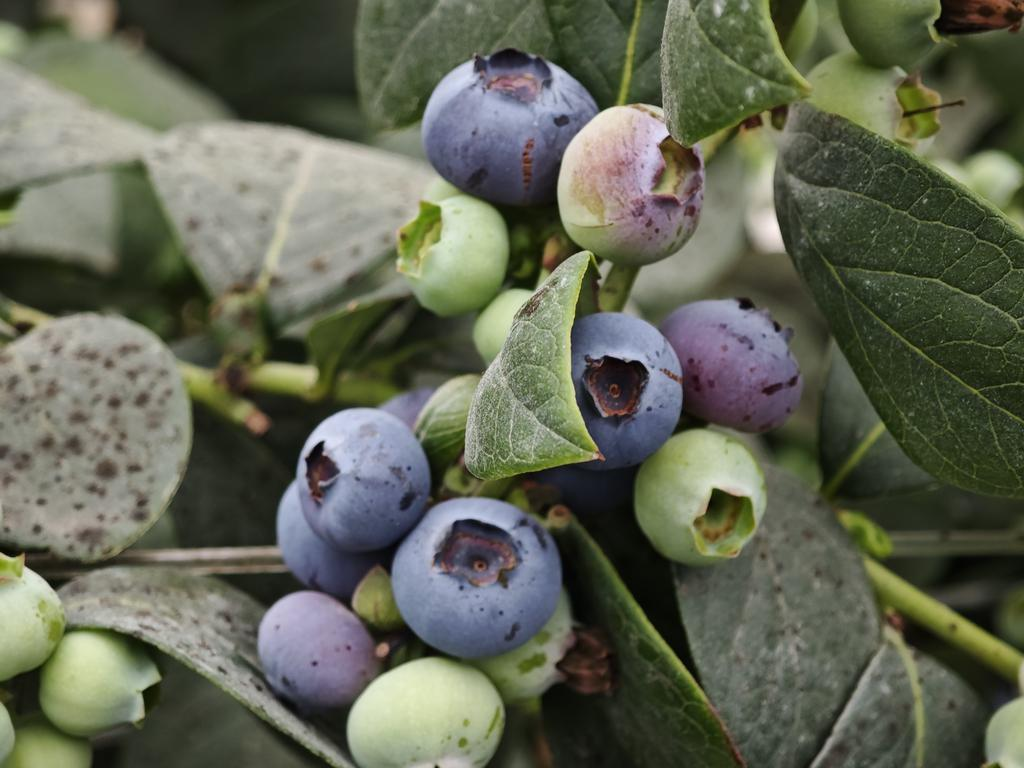RipeBlueBerry: (393, 497, 563, 656), (420, 50, 557, 204), (294, 409, 430, 555), (670, 297, 801, 429)
Semi-RipeBlueBerry: (555, 100, 710, 260)
UnripeBlueBerry: (635, 433, 767, 566), (394, 195, 510, 315)
